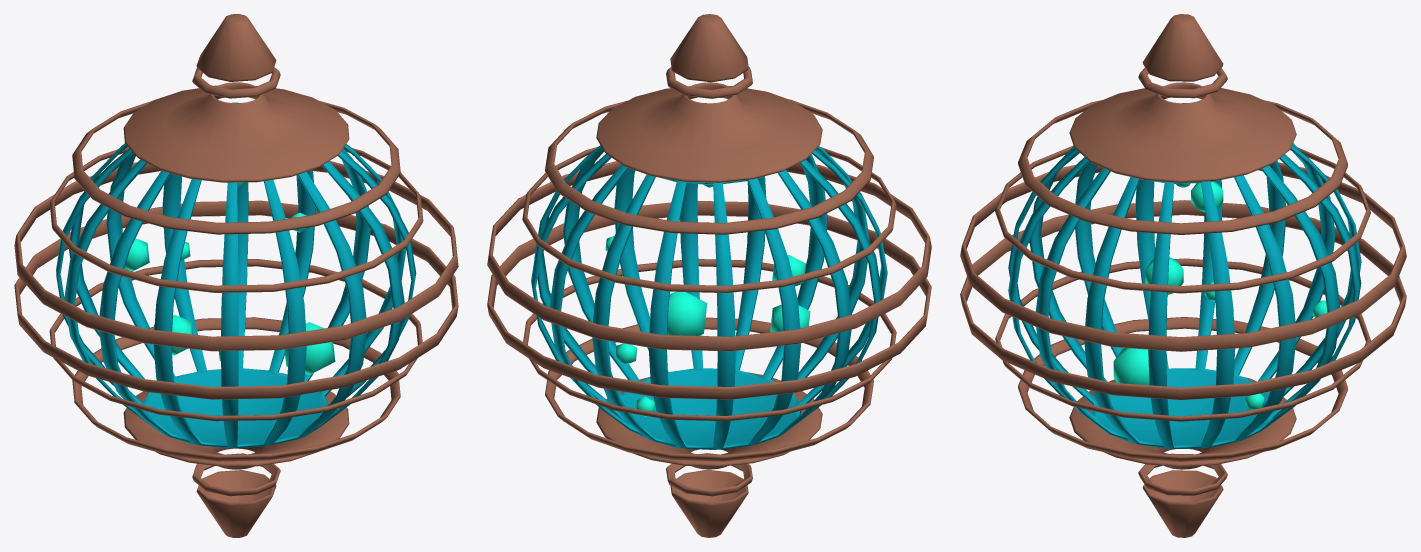
The model's file is Orb_1.fbx.
3 views of the same model, side by side, from view 1: azimuth 30°, elevation 25°; view 2: azimuth 150°, elevation 25°; view 3: azimuth 270°, elevation 25° (orthographic).
Visible parts, largest first — view 1: Sphere, Sphere.002, Sphere.004, Icosphere.003, Icosphere.001; view 2: Sphere, Sphere.002, Sphere.004, Icosphere.003; view 3: Sphere, Sphere.002, Sphere.004, Icosphere.003, Icosphere, Icosphere.001.
Boxes of the visible parts, <box> form: Sphere: <box>14,82,458,469</box>; Sphere.002: <box>56,102,416,448</box>; Sphere.004: <box>192,14,280,537</box>; Icosphere.003: <box>284,322,335,375</box>; Icosphere.001: <box>124,238,149,271</box>; Sphere: <box>487,82,931,469</box>; Sphere.002: <box>531,103,887,449</box>; Sphere.004: <box>666,14,752,537</box>; Icosphere.003: <box>667,291,707,335</box>; Sphere: <box>960,82,1406,469</box>; Sphere.002: <box>1008,103,1361,449</box>; Sphere.004: <box>1138,14,1227,537</box>; Icosphere.003: <box>1113,348,1149,385</box>; Icosphere: <box>1145,257,1183,294</box>; Icosphere.001: <box>1191,181,1223,212</box>.
Size of the model in its own units: 110 by 141 by 110.
